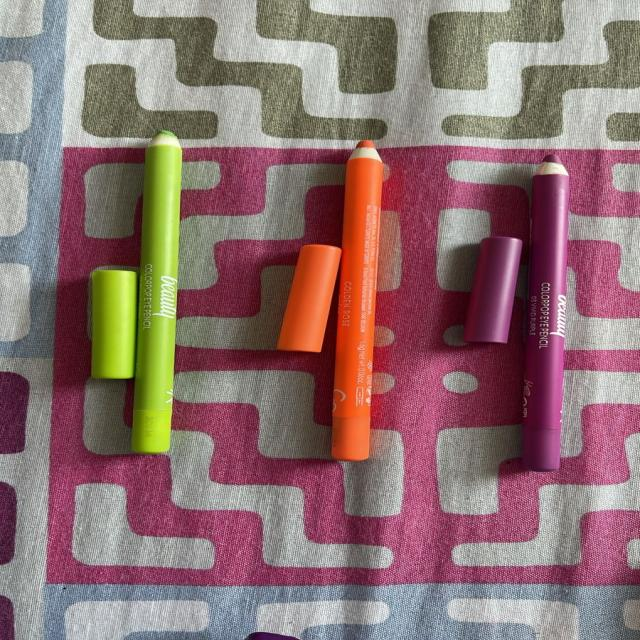eye liner: (482, 128, 598, 492), (302, 125, 399, 479), (115, 119, 208, 468)
